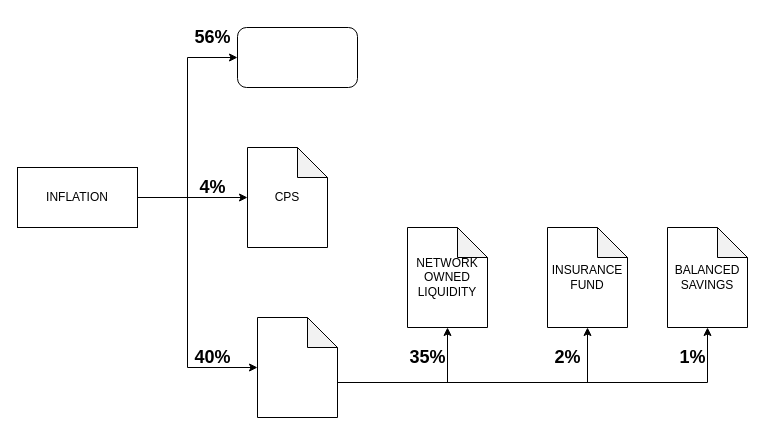
The diagram is 765 pixels wide and 435 high, and some of its shapes have lost their labels. Here are the shapes that lost their labels. From the top down, the centre of each, then its label:
At point (297, 57): "VALIDATORS".
At point (297, 367): "IRELAY".
